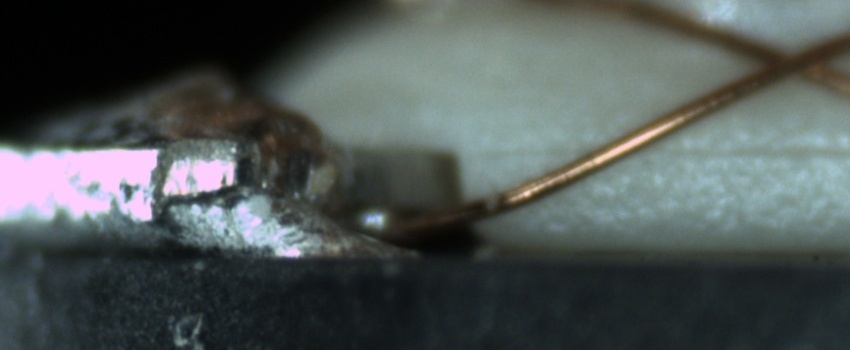CL: (744, 28, 843, 89)
DL: (476, 125, 849, 189)
